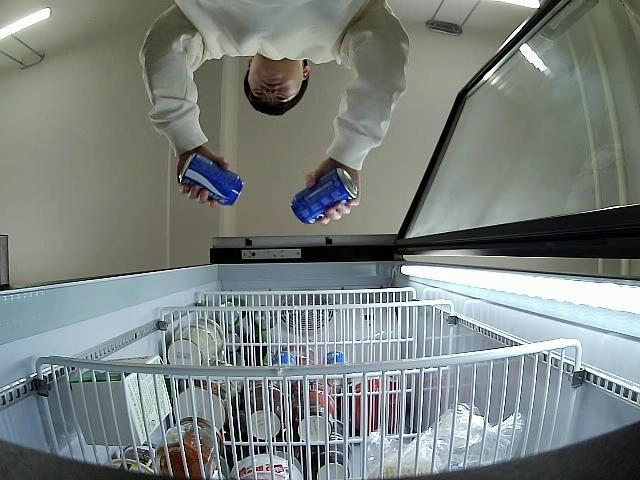13_pocariSweat: (292, 168, 358, 226), (178, 153, 244, 208)
